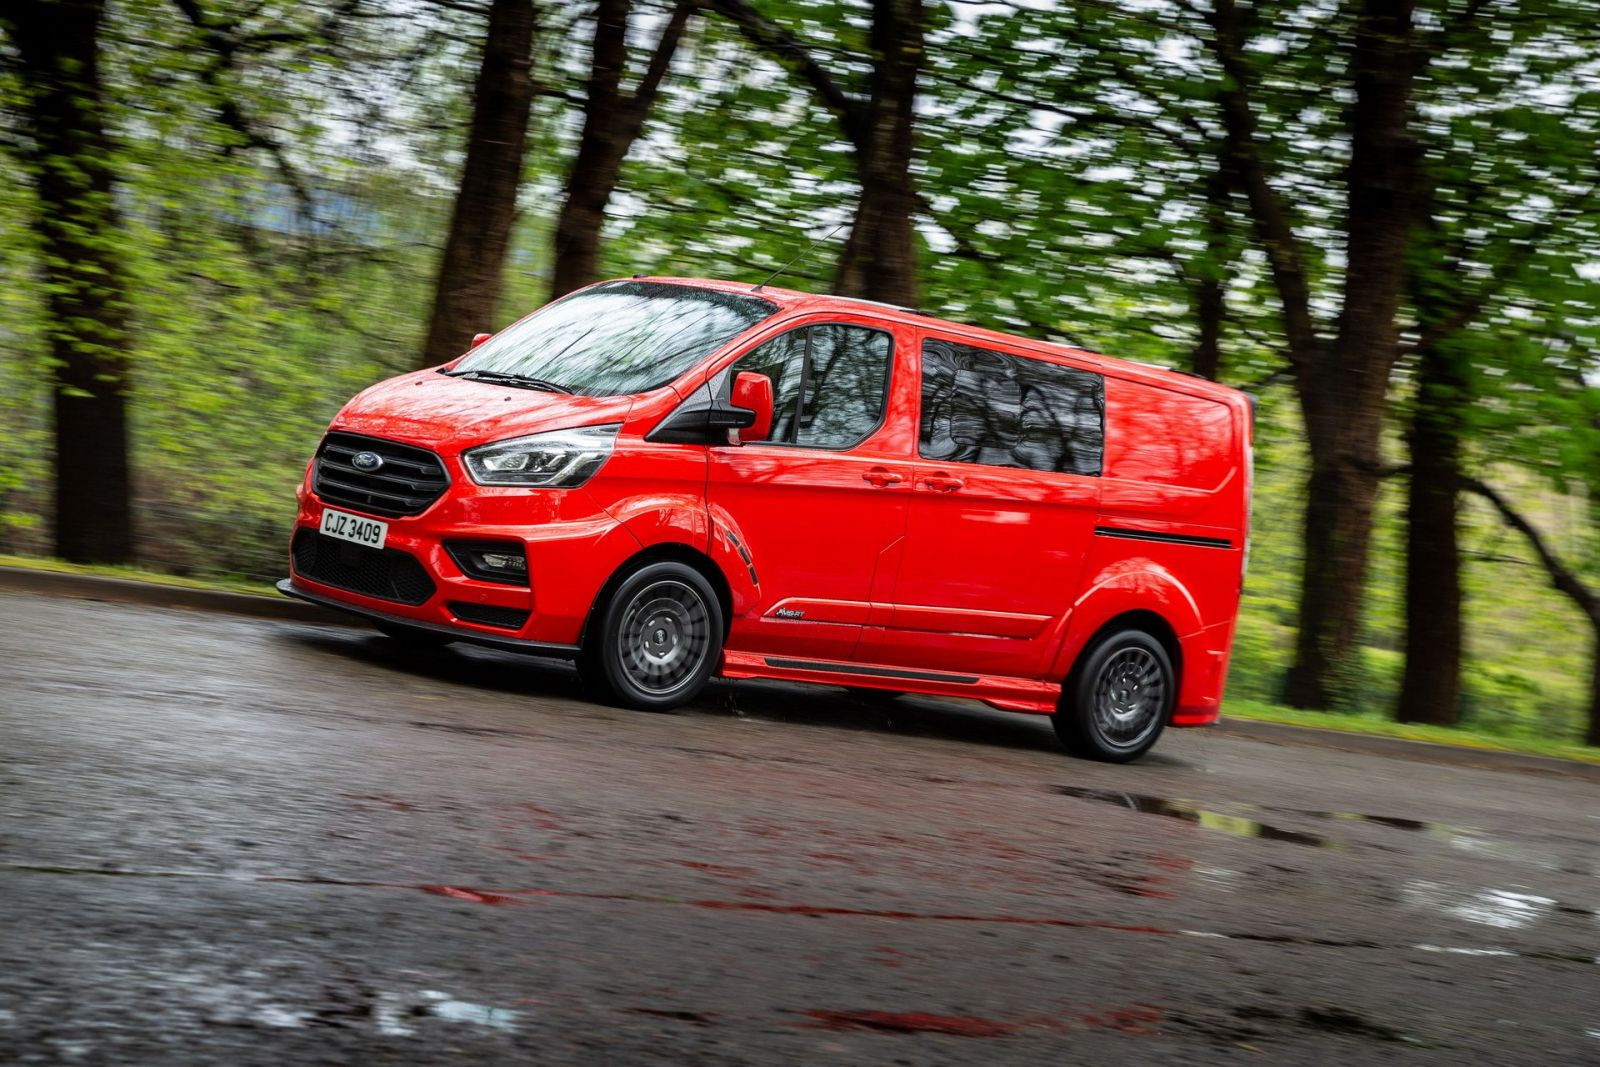van: (277, 270, 1256, 765)
